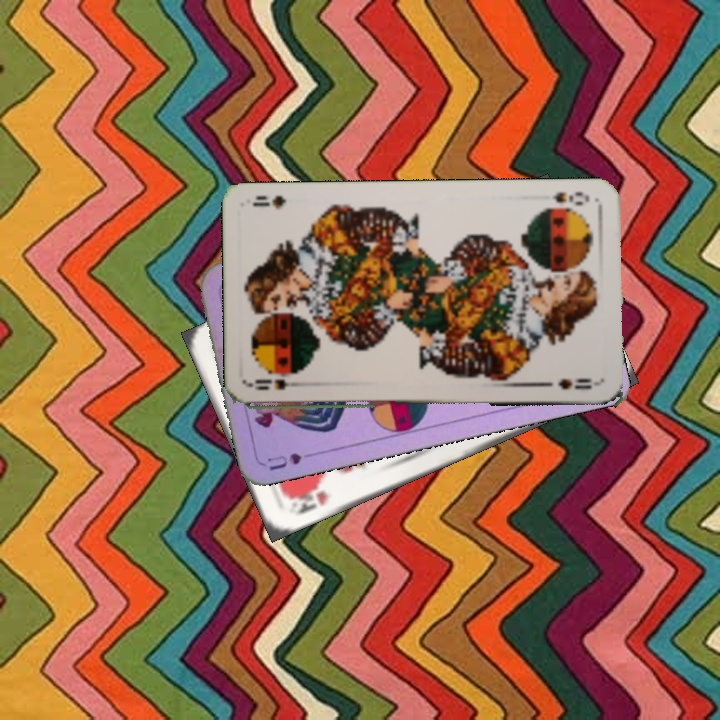HK: (285, 484, 331, 518)
SO: (249, 375, 308, 393), (548, 187, 592, 208)
SU: (263, 447, 322, 474)
